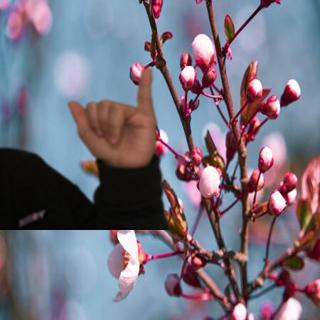HAVE: (60, 62, 170, 172)
